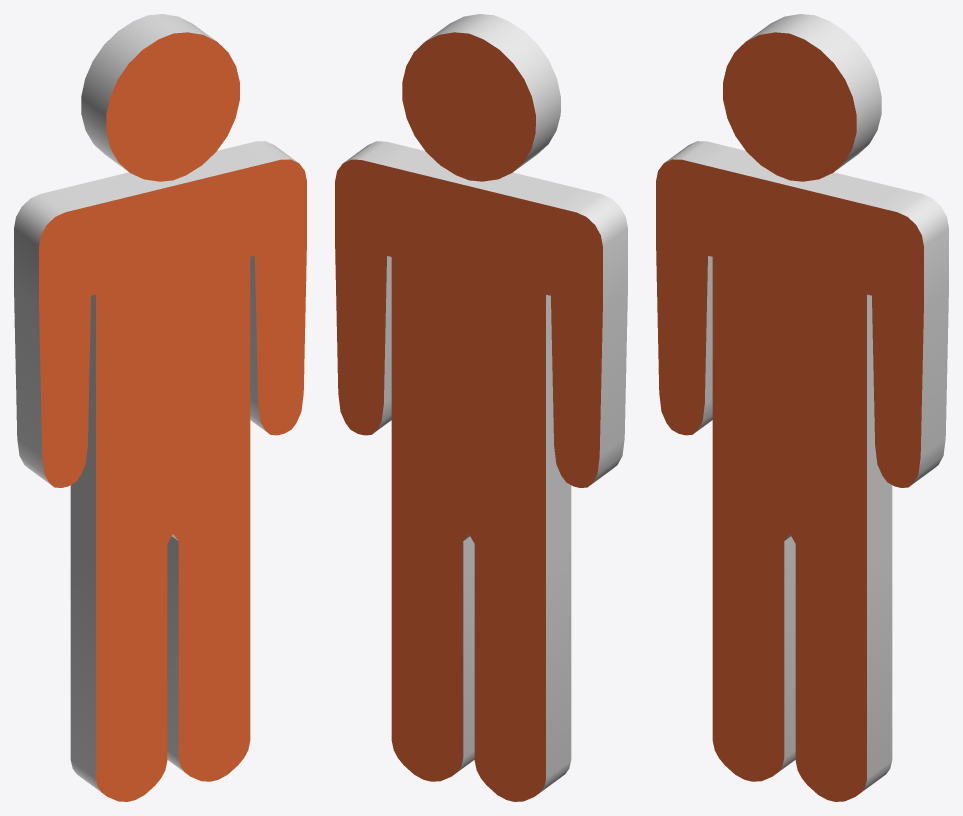
The model's file is Male Dummy B.fbx.
3 views of the same model, side by side, from view 1: azimuth 30°, elevation 25°; view 2: azimuth 150°, elevation 25°; view 3: azimuth 330°, elevation 25° (orthographic).
Parts seen in each view (by area): view 1: Male Dummy B; view 2: Male Dummy B; view 3: Male Dummy B.
Part boxes in pixels (left/top/right/bottom): Male Dummy B: left=14, top=14, right=306, bottom=801; Male Dummy B: left=335, top=14, right=627, bottom=801; Male Dummy B: left=656, top=14, right=948, bottom=801.
Size of the model in its own units: 73.54 by 199 by 11.97.
